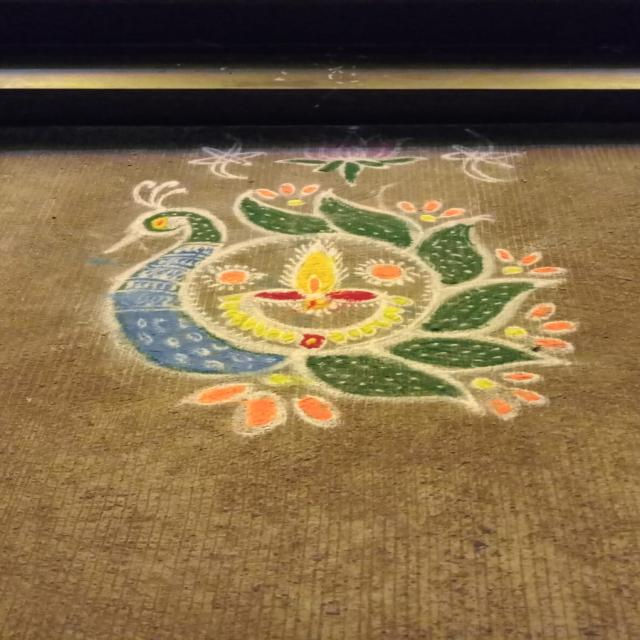rangoli: (18, 126, 640, 441)
